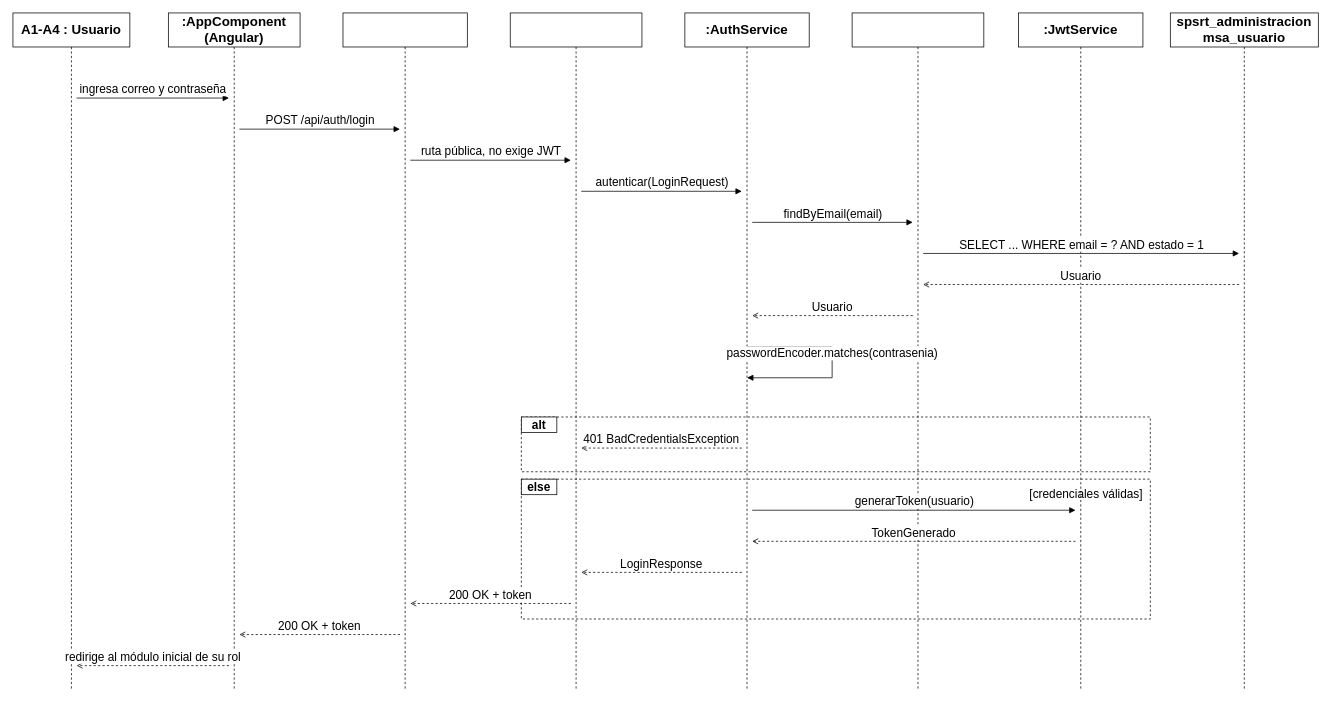
The diagram is 1331 pixels wide and 702 high, and some of its shapes have lost their labels. The shapes that lost their labels are listed below. From the top down, each one's box as (x1, y1, x2, y2) in pixels, then its label:
(342, 12, 467, 689): :ApiGateway
(509, 12, 642, 689): :AuthController
(851, 12, 984, 689): :UsuarioMapper
(521, 416, 1150, 472): [no hay usuario activo con ese correo, o la contraseña no coincide]
